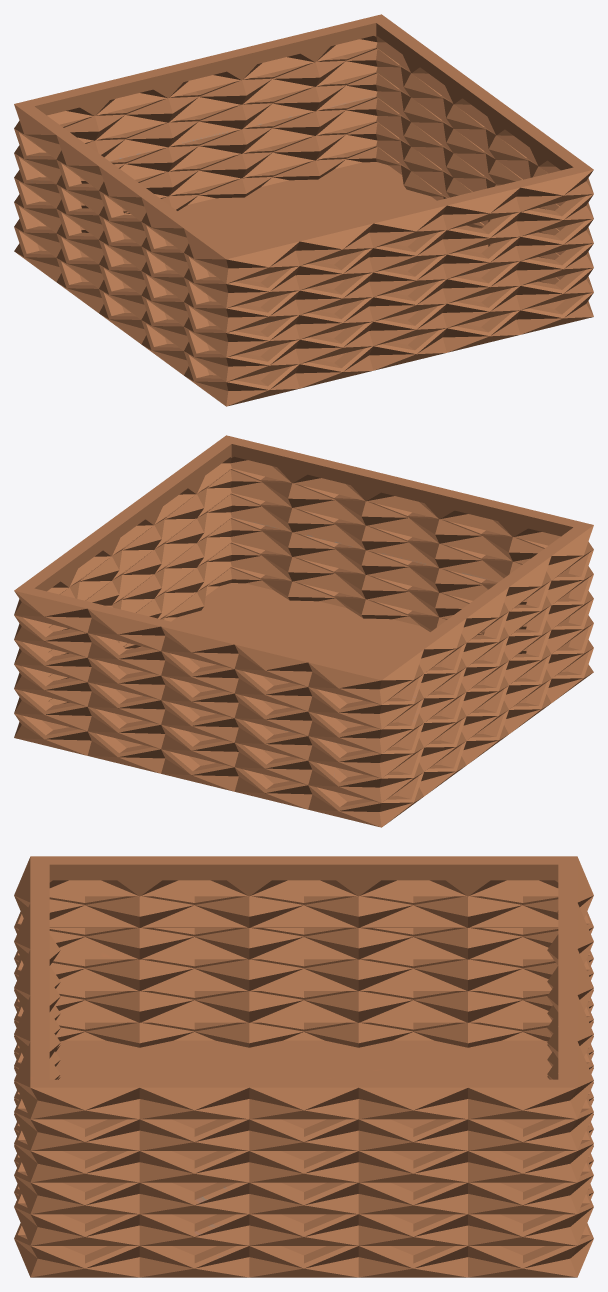
File: Basket.glb
3 views of the same model, one above another, from view 1: azimuth 30°, elevation 25°; view 2: azimuth 150°, elevation 25°; view 3: azimuth 270°, elevation 25° (orthographic). The views are drawn at different scales.
Visible parts, largest first — view 1: node_id32; view 2: node_id32; view 3: node_id32.
Part boxes in pixels (x1=…): node_id32: x1=14, y1=14, x2=593, y2=406; node_id32: x1=14, y1=435, x2=593, y2=827; node_id32: x1=14, y1=856, x2=593, y2=1277.
Size of the model in its own units: 0.2387 by 0.0862 by 0.2387.
Materials: 1 (1 with a texture image).
